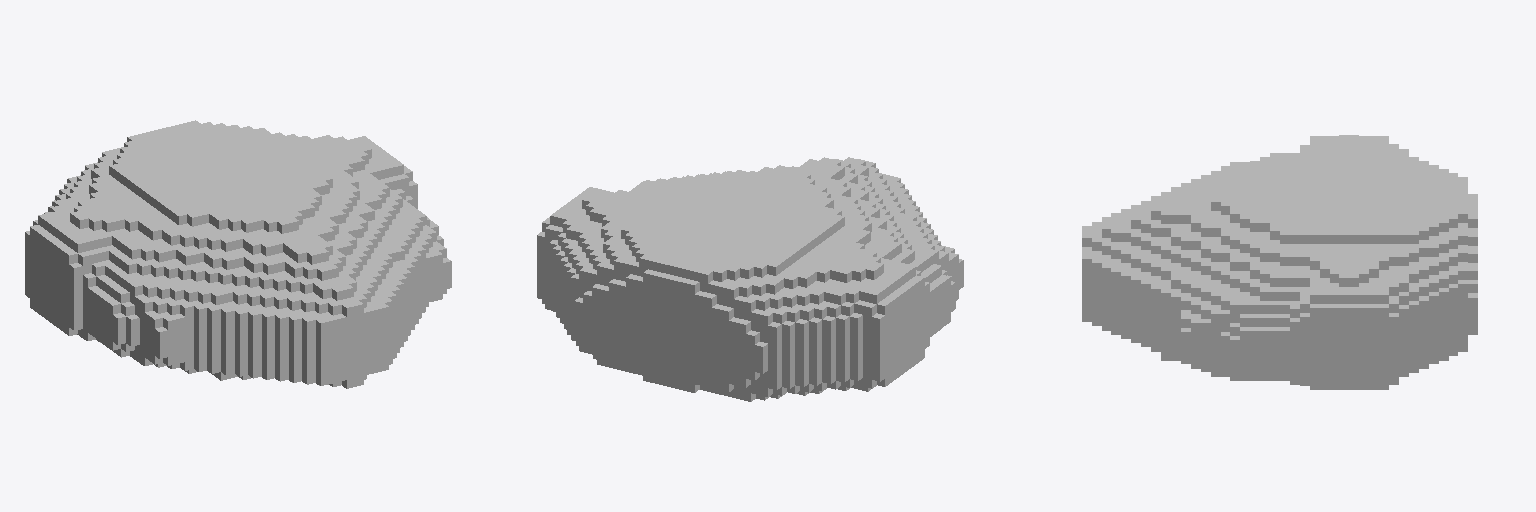
File: ratbody.obj
3 views of the same model, side by side, from view 1: azimuth 30°, elevation 25°; view 2: azimuth 150°, elevation 25°; view 3: azimuth 270°, elevation 25° (orthographic).
Parts seen in each view (by area): view 1: object 1; view 2: object 1; view 3: object 1.
Boxes of the visible parts, x1,y1,x2,y2 form: object 1: [25, 120, 451, 388]; object 1: [537, 157, 963, 401]; object 1: [1082, 135, 1477, 389].
Size of the model in its own units: 4 by 1.3 by 4.